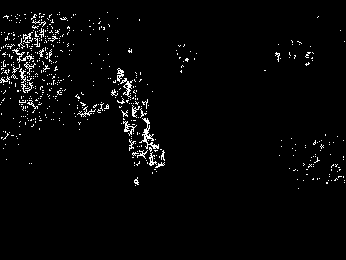person: (127, 108, 166, 186), (114, 68, 131, 118)
